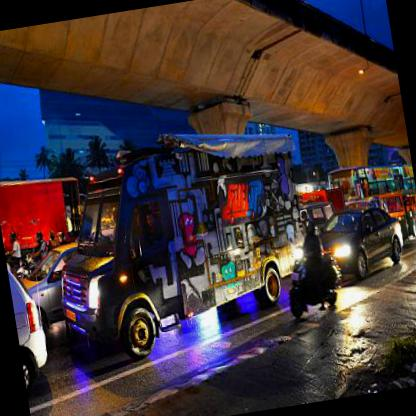car: (316, 200, 412, 284), (5, 256, 54, 400)
motorcycle: (276, 215, 344, 316)
truck: (38, 115, 319, 372), (324, 160, 402, 212)
